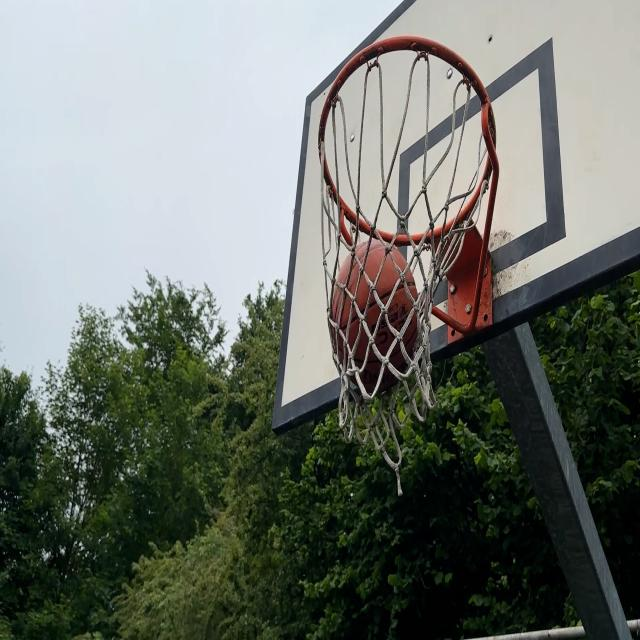Goal: (329, 240, 420, 390)
